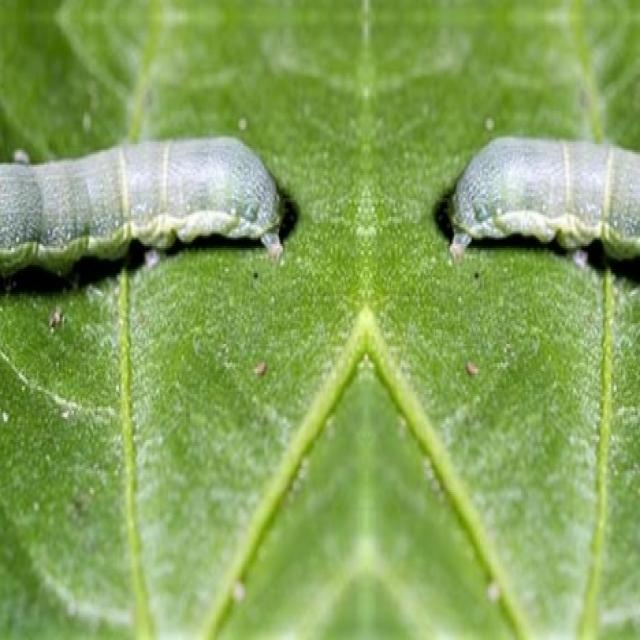armyworm: (0, 132, 286, 284), (444, 132, 638, 280)
